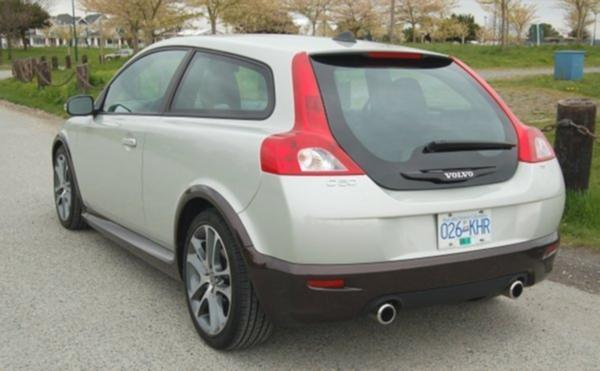volvo: (432, 163, 489, 185)
